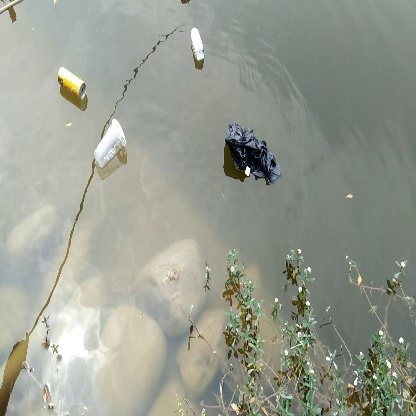bottle: (93, 117, 127, 172), (53, 63, 92, 103)
plastic-bag: (222, 122, 283, 183)
